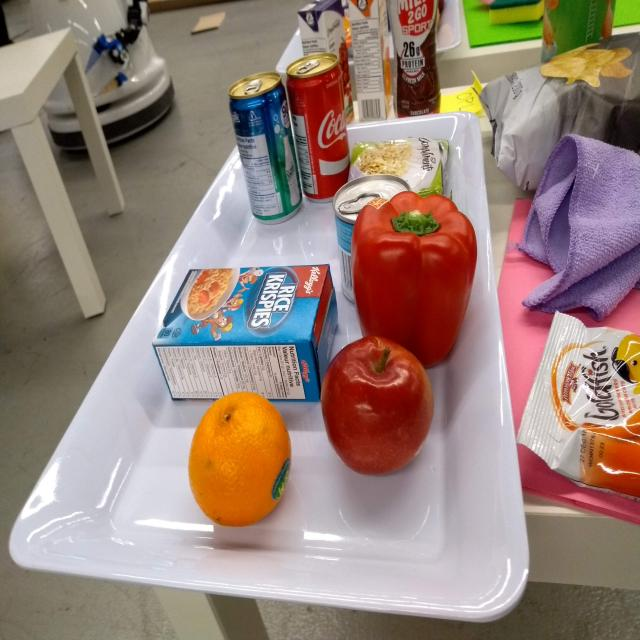apple: (317, 335, 438, 479)
cereal: (151, 260, 343, 408)
coke: (284, 50, 354, 208)
noodles: (346, 133, 449, 199)
orange: (185, 389, 294, 530)
paprika: (348, 189, 479, 378)
sprite: (225, 68, 307, 227)
